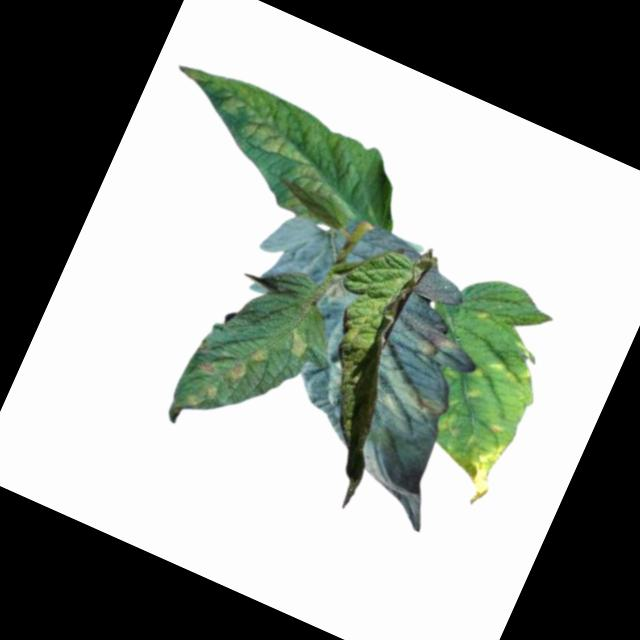Leaf_Mold: (153, 53, 361, 202), (360, 340, 462, 431), (436, 427, 510, 508), (392, 302, 465, 366), (483, 348, 541, 399), (227, 337, 273, 390), (284, 327, 313, 363), (325, 277, 353, 308)
